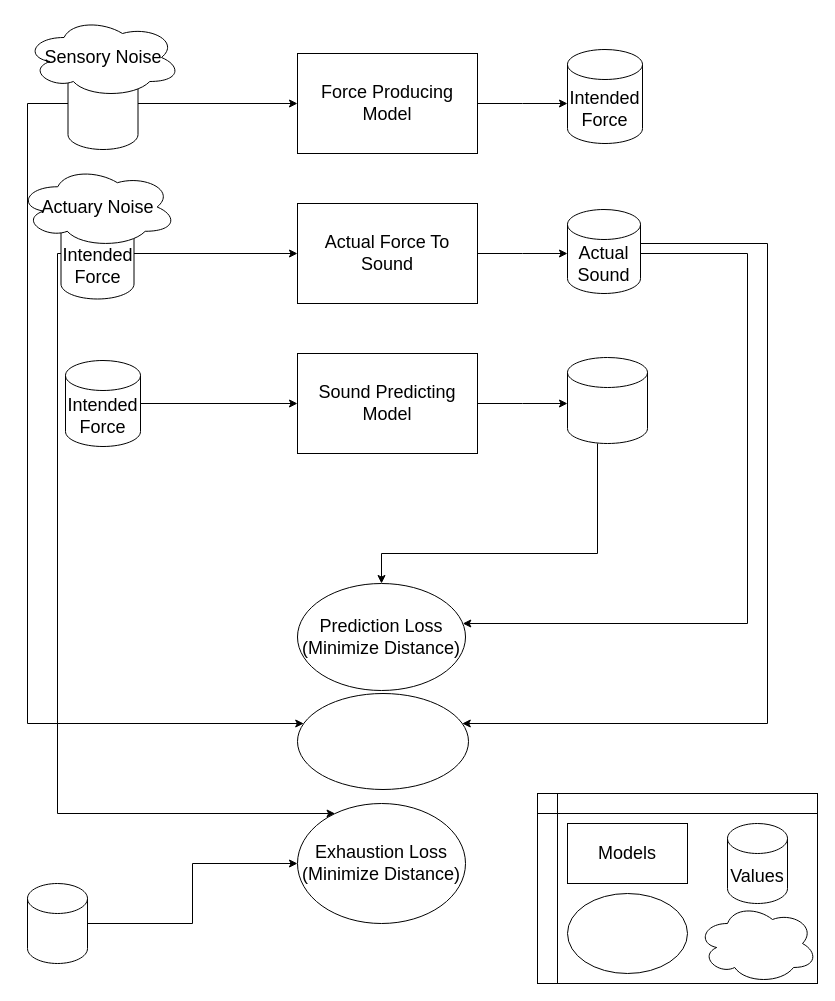
This 835x1001 diagram has some shape labels left out. The shapes that lost their labels are listed below. From the top down, each one's centre as x and y in pixels, then its label:
At (x=102, y=103): "Past Sound".
At (x=607, y=400): "Predicted Sound".
At (x=382, y=741): "Novelty Loss (Maximize Distance)".
At (x=57, y=923): "Instinct".
At (x=627, y=933): "Losses".
At (x=757, y=943): "Noise".
